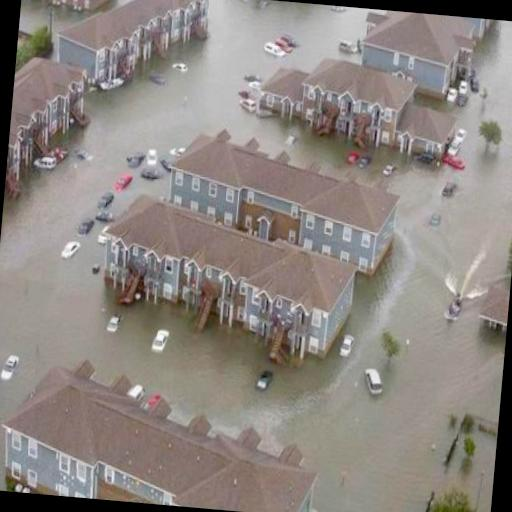flood: (0, 20, 512, 512), (81, 0, 386, 137), (19, 0, 85, 34)
house: (14, 377, 303, 512), (152, 128, 390, 260), (190, 232, 362, 365), (39, 0, 211, 104), (93, 194, 219, 310), (3, 52, 83, 218), (282, 52, 412, 152), (359, 9, 475, 104), (479, 274, 511, 346), (21, 0, 113, 13)
